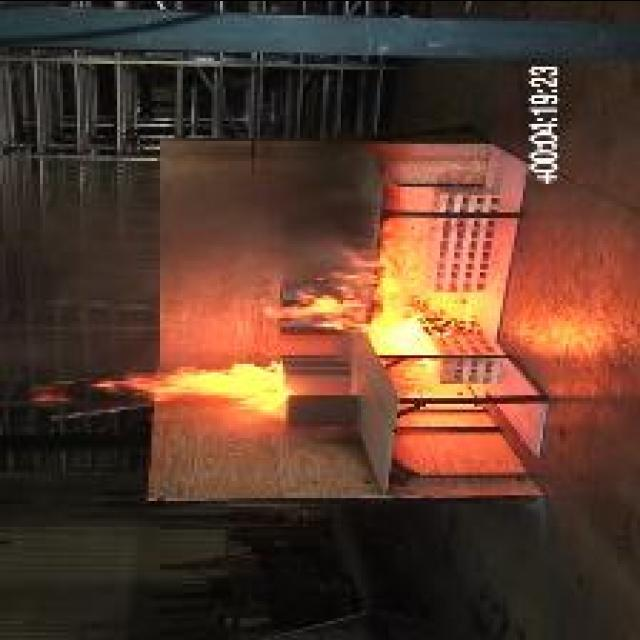Fire: (266, 238, 468, 350), (34, 358, 288, 413)
